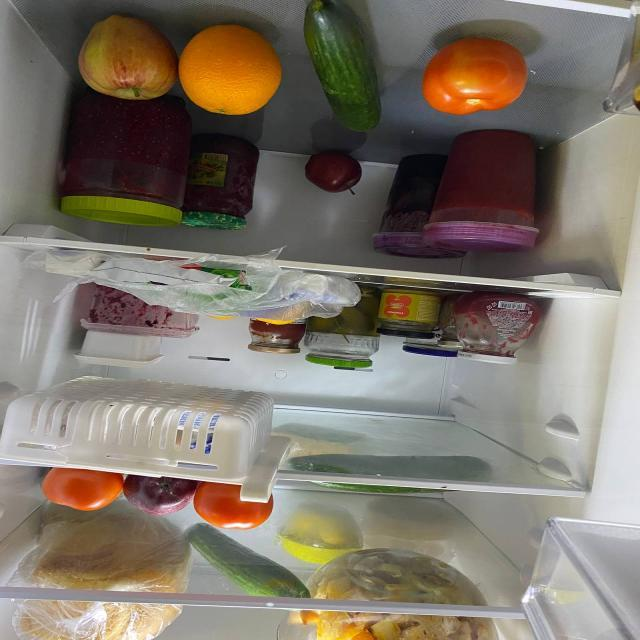Apple: (80, 13, 170, 99), (298, 156, 366, 195), (121, 477, 195, 512)
Cucumber: (294, 0, 384, 136), (191, 524, 305, 601), (302, 454, 490, 478), (292, 477, 466, 498)
Orange: (174, 20, 280, 111)
Tomato: (422, 42, 530, 118), (29, 472, 128, 510), (194, 483, 274, 528)
